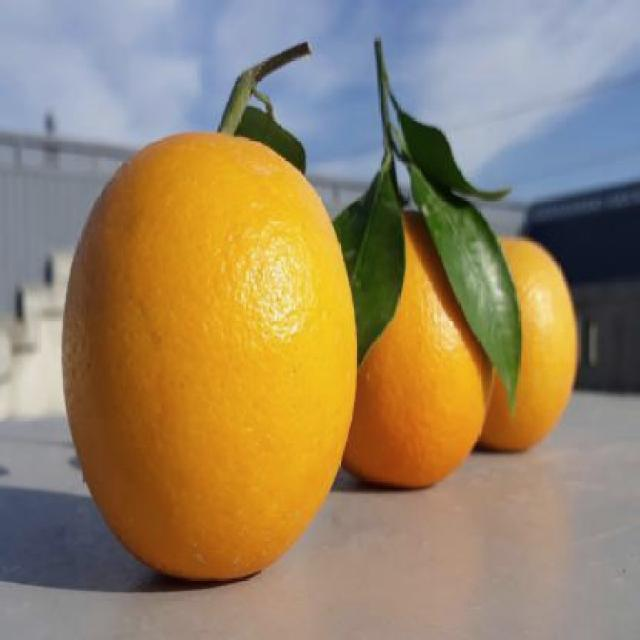Jeruk Sudah Matang: (60, 125, 360, 586), (318, 197, 497, 492), (446, 230, 580, 458)
